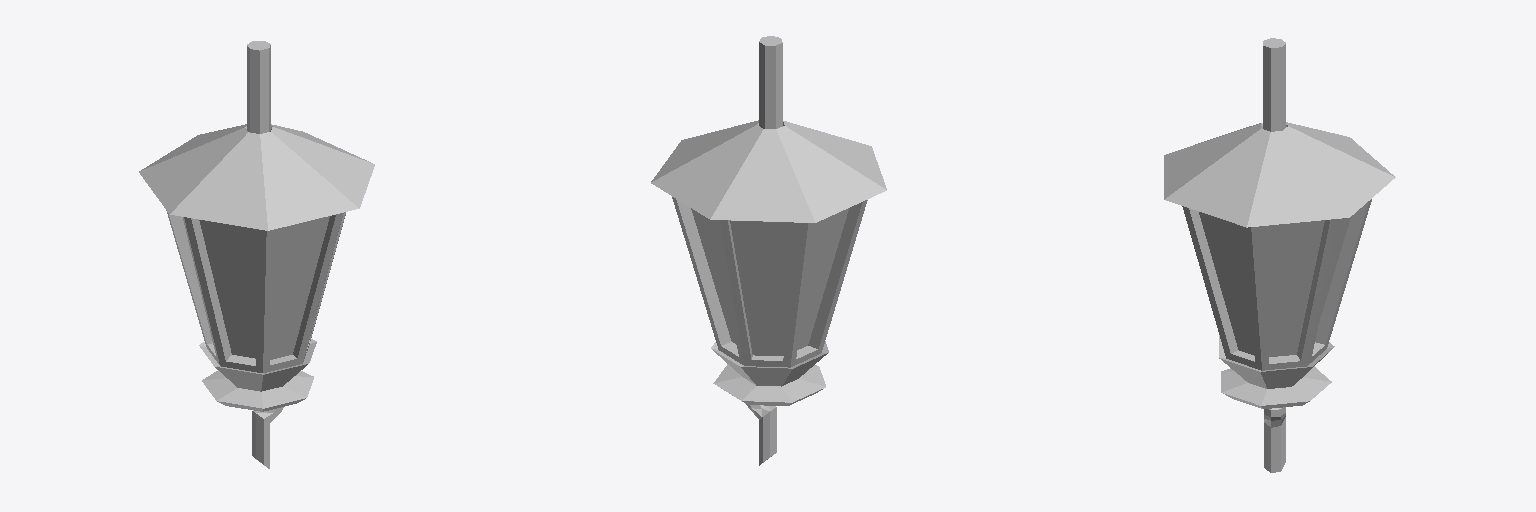
The model's file is lantern.obj.
The picture shows the model from 3 angles: view 1: azimuth 30°, elevation 25°; view 2: azimuth 150°, elevation 25°; view 3: azimuth 270°, elevation 25°; orthographic projection.
Visible parts, largest first — view 1: Cylinder_Cylinder.002; view 2: Cylinder_Cylinder.002; view 3: Cylinder_Cylinder.002.
Boxes of the visible parts, x1=… form: Cylinder_Cylinder.002: x1=139, y1=41, x2=374, y2=468; Cylinder_Cylinder.002: x1=651, y1=36, x2=886, y2=465; Cylinder_Cylinder.002: x1=1164, y1=38, x2=1395, y2=472.
Size of the model in its own units: 1.68 by 3.32 by 1.64.